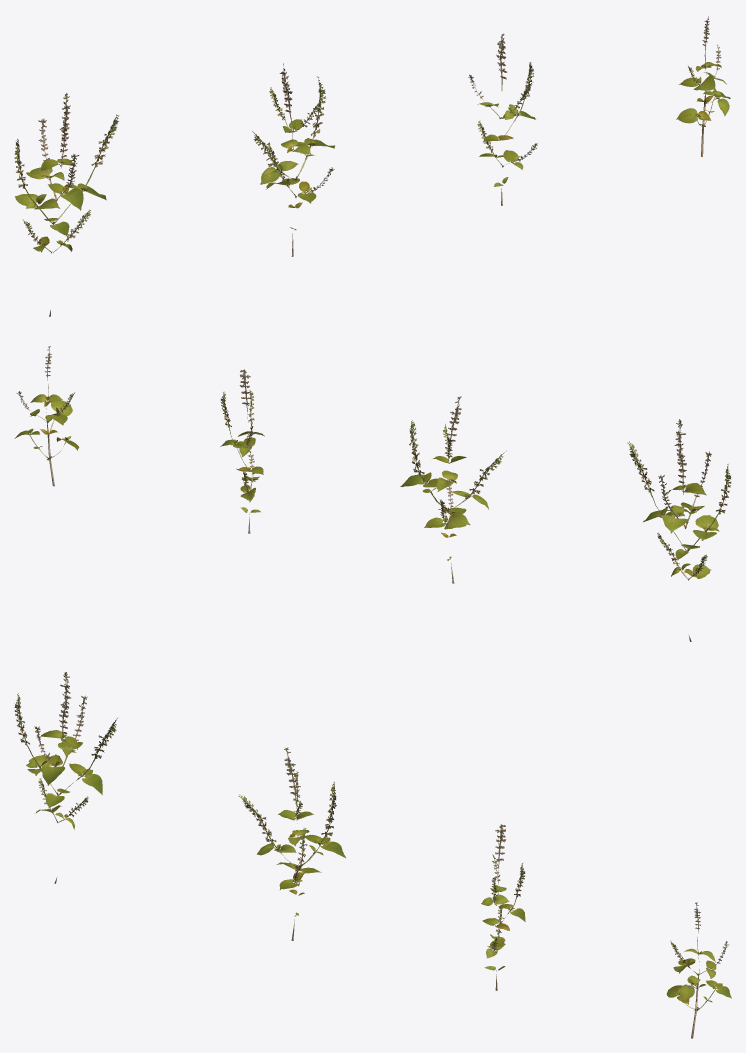
Rendered from shrub_03.glb.
The picture shows the model from 3 angles, top to bottom: view 1: azimuth 30°, elevation 25°; view 2: azimuth 150°, elevation 25°; view 3: azimuth 330°, elevation 25°; orthographic projection. The views are drawn at different scales.
Visible parts, largest first — view 1: shrub_03_a, shrub_03_b, shrub_03_c, shrub_03_d; view 2: shrub_03_a, shrub_03_b, shrub_03_c, shrub_03_d; view 3: shrub_03_a, shrub_03_b, shrub_03_d, shrub_03_c.
Boxes of the visible parts, bbox=[...] form: shrub_03_a: bbox=[14, 93, 118, 316]; shrub_03_b: bbox=[252, 63, 334, 256]; shrub_03_c: bbox=[468, 33, 537, 205]; shrub_03_d: bbox=[676, 16, 730, 156]; shrub_03_a: bbox=[627, 419, 731, 641]; shrub_03_b: bbox=[400, 396, 506, 583]; shrub_03_c: bbox=[220, 369, 264, 533]; shrub_03_d: bbox=[14, 346, 79, 486]; shrub_03_a: bbox=[14, 672, 117, 883]; shrub_03_b: bbox=[238, 747, 345, 940]; shrub_03_d: bbox=[666, 902, 731, 1038]; shrub_03_c: bbox=[481, 824, 525, 990].
Size of the model in its own units: 1.37 by 0.4028 by 0.1512.
1 material, 1 textured.
